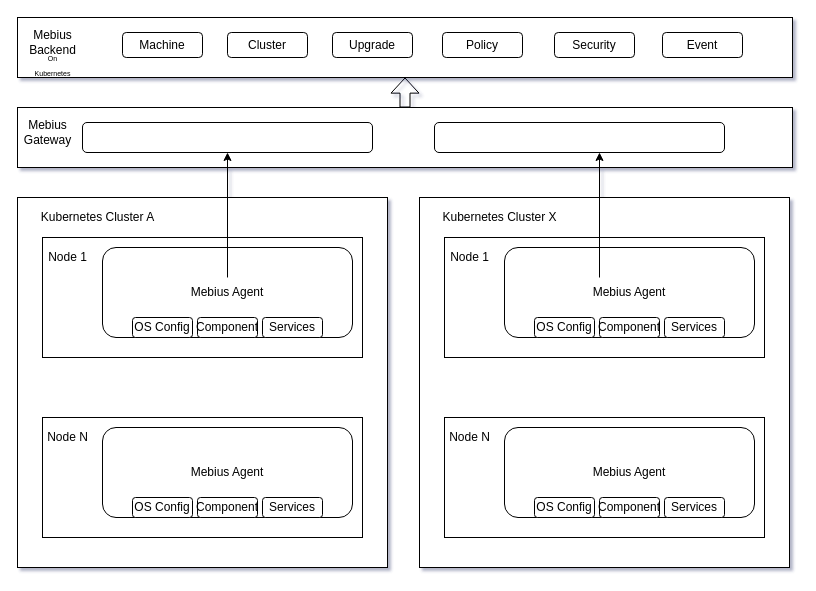
Some shapes in this 816 by 591 pixel diagram are drawn without their labels. The shapes that lost their labels are listed below. From the top down, each one's centre as x and y in pixels, then its label:
At point 227,137: "Cluster A".
At point 579,137: "Cluster X".
